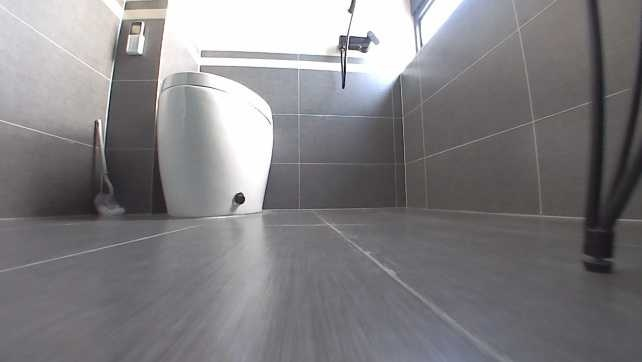toilet: (157, 73, 276, 216)
